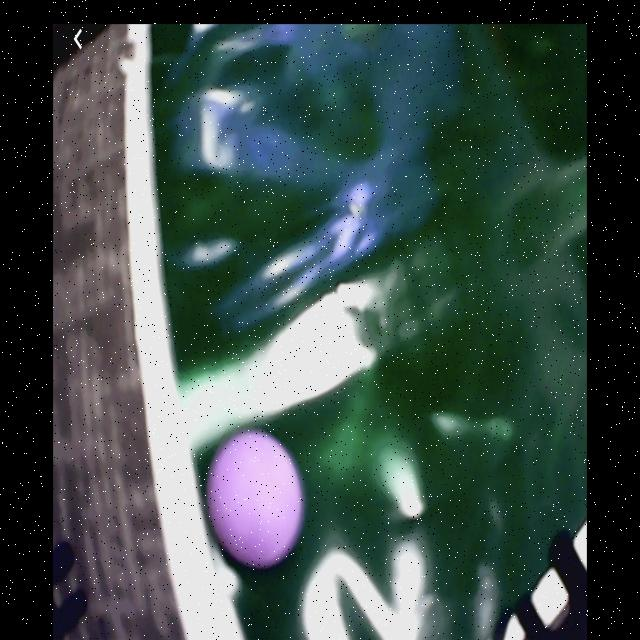ball: (208, 431, 306, 567)
